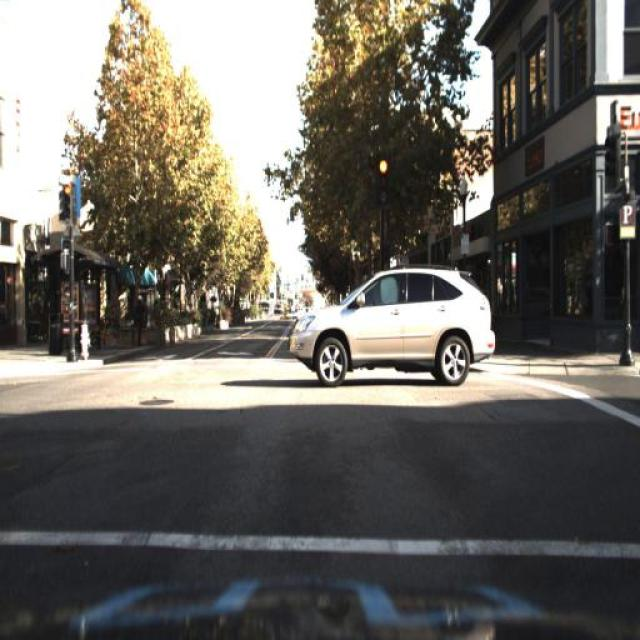car: (281, 256, 495, 390)
trafficLight: (134, 291, 148, 345)
trafficLight-RedLeft: (58, 172, 80, 220), (375, 154, 390, 194), (58, 181, 71, 223)
